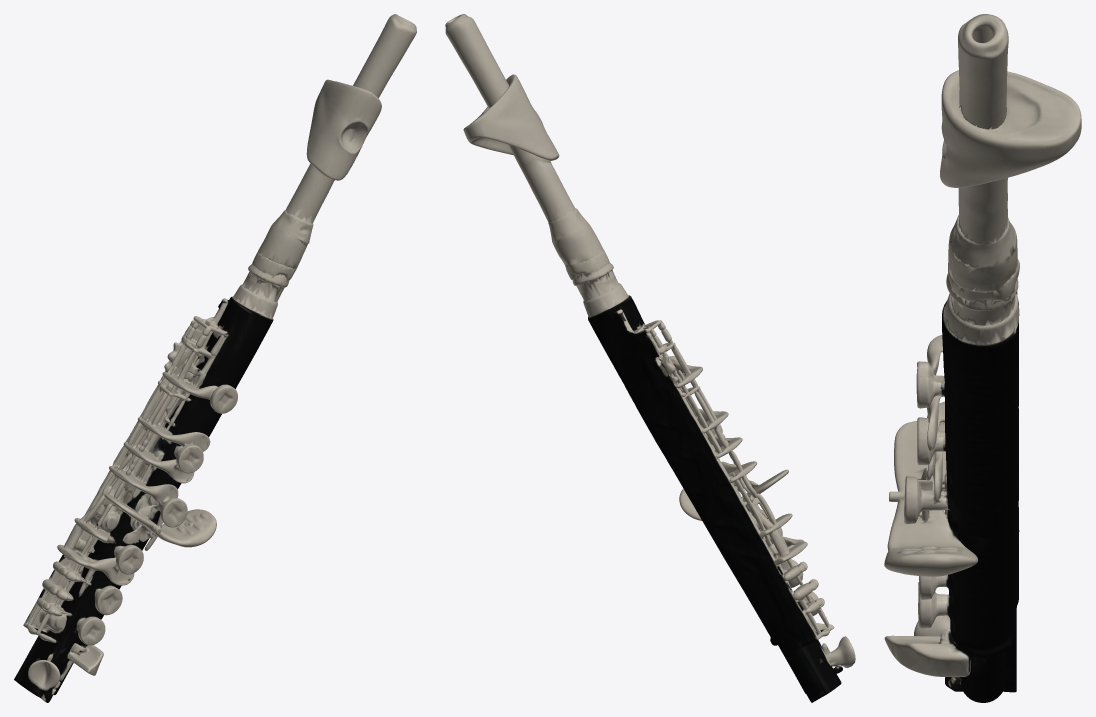
The model's file is piccolo.glb.
The picture shows the model from 3 angles, left to right: view 1: azimuth 30°, elevation 25°; view 2: azimuth 150°, elevation 25°; view 3: azimuth 270°, elevation 25°; orthographic projection. The views are drawn at different scales.
Parts seen in each view (by area): view 1: tripo_node_3d486e4f-12b1-45fc-b38e-22a339c44b7f; view 2: tripo_node_3d486e4f-12b1-45fc-b38e-22a339c44b7f; view 3: tripo_node_3d486e4f-12b1-45fc-b38e-22a339c44b7f.
Boxes of the visible parts, bbox=[...] form: tripo_node_3d486e4f-12b1-45fc-b38e-22a339c44b7f: bbox=[14, 14, 416, 702]; tripo_node_3d486e4f-12b1-45fc-b38e-22a339c44b7f: bbox=[445, 14, 855, 702]; tripo_node_3d486e4f-12b1-45fc-b38e-22a339c44b7f: bbox=[884, 14, 1081, 702].
Size of the model in its own units: 0.6874 by 0.9797 by 0.1825.
Materials: 1 (1 with a texture image).
